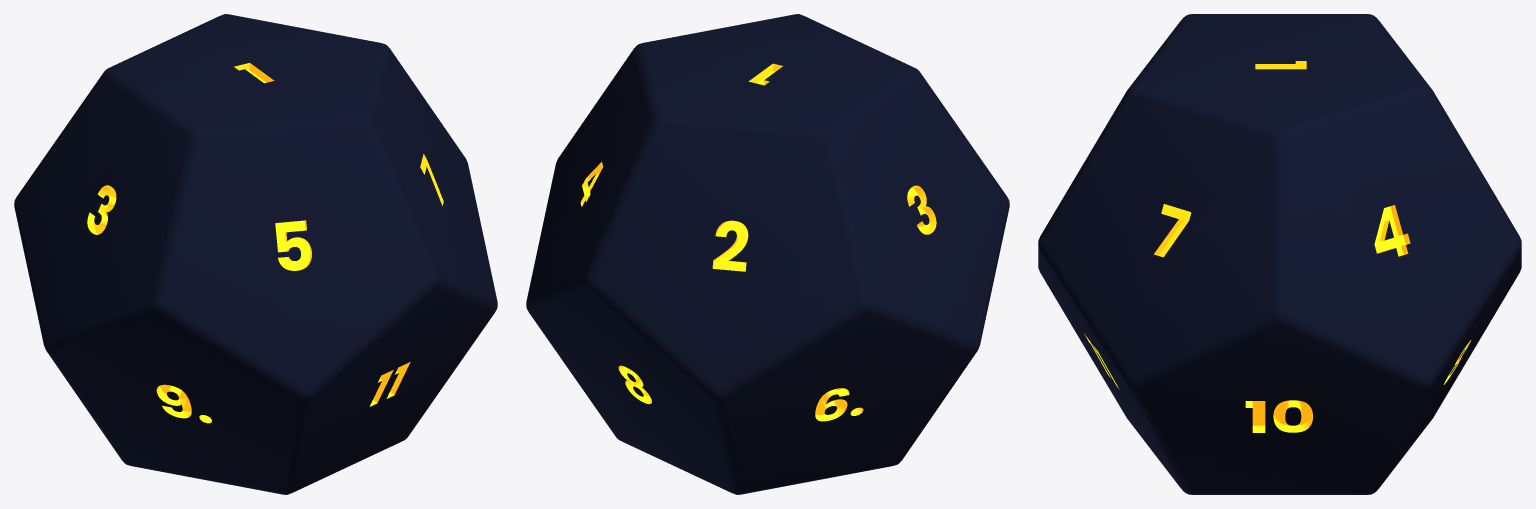
3 renders of one model, left to right at view 1: azimuth 30°, elevation 25°; view 2: azimuth 150°, elevation 25°; view 3: azimuth 270°, elevation 25°, orthographic. The views are drawn at different scales.
Visible parts, largest first — view 1: MP_D12; view 2: MP_D12; view 3: MP_D12.
Boxes of the visible parts, x1,y1,x2,y2 form: MP_D12: [14, 14, 497, 494]; MP_D12: [526, 14, 1009, 494]; MP_D12: [1038, 14, 1521, 494].
Size of the model in its own units: 1 by 0.8198 by 0.9523.
